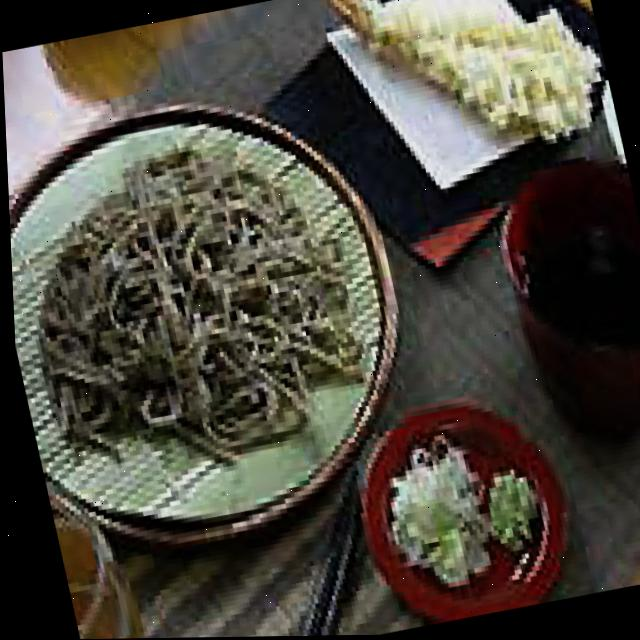面条主食: (2, 43, 449, 579)
